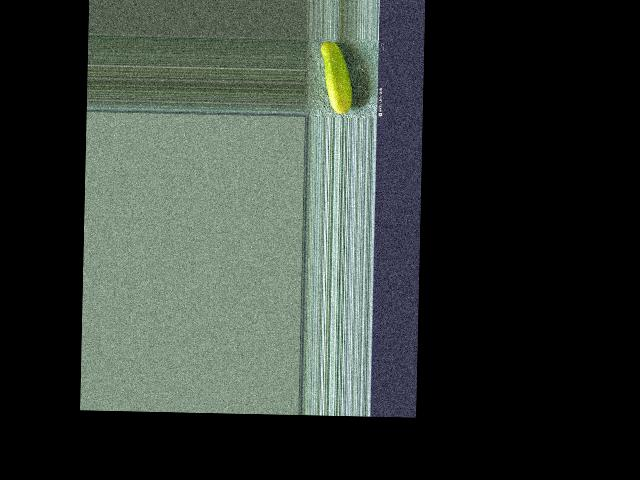cucumber: (319, 40, 353, 114)
